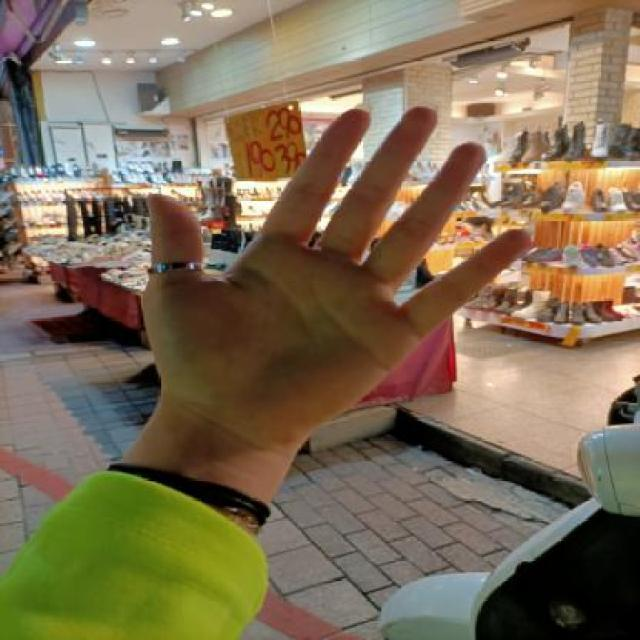bare_hand: (129, 94, 542, 463)
